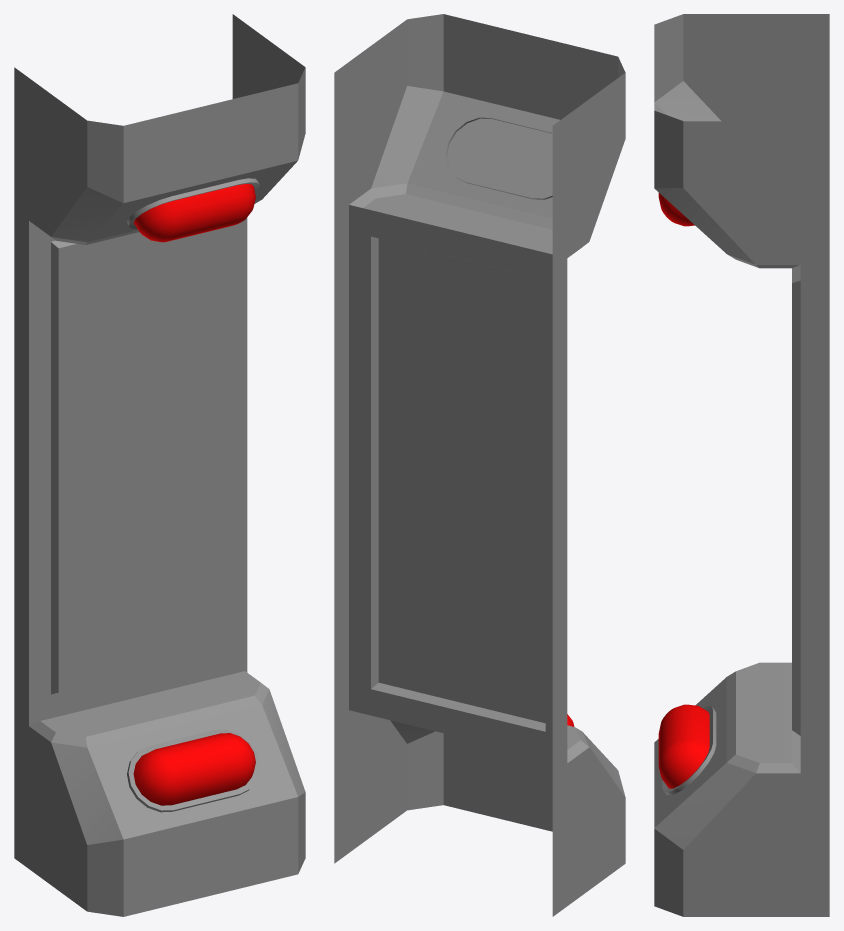
Rendered from FireExtinguisher_Holder.FBX.
The picture shows the model from 3 angles, left to right: view 1: azimuth 30°, elevation 25°; view 2: azimuth 150°, elevation 25°; view 3: azimuth 270°, elevation 25°; orthographic projection.
Visible parts, largest first — view 1: FireExtinguisher_Holder; view 2: FireExtinguisher_Holder; view 3: FireExtinguisher_Holder.
Boxes of the visible parts, x1,y1,x2,y2 form: FireExtinguisher_Holder: (14,14,305,916); FireExtinguisher_Holder: (334,14,625,916); FireExtinguisher_Holder: (654,14,829,916).
Bounding box in the file's own units: 86.65 × 300 × 60.
